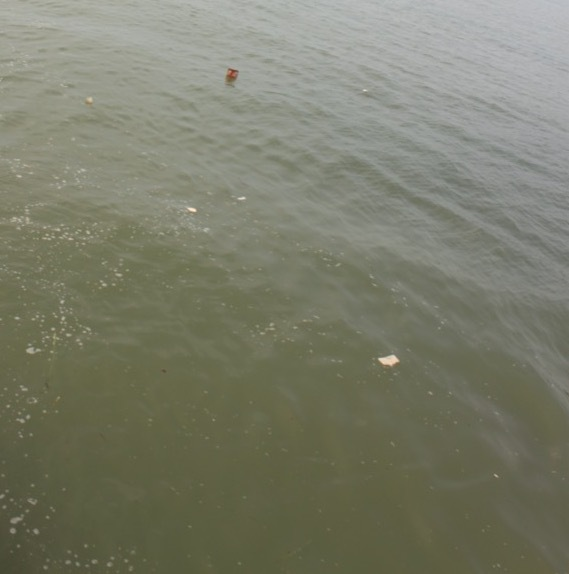plastic: (369, 344, 408, 377), (213, 61, 251, 90), (71, 85, 104, 112), (173, 195, 204, 223), (353, 78, 375, 99), (230, 191, 251, 205)
